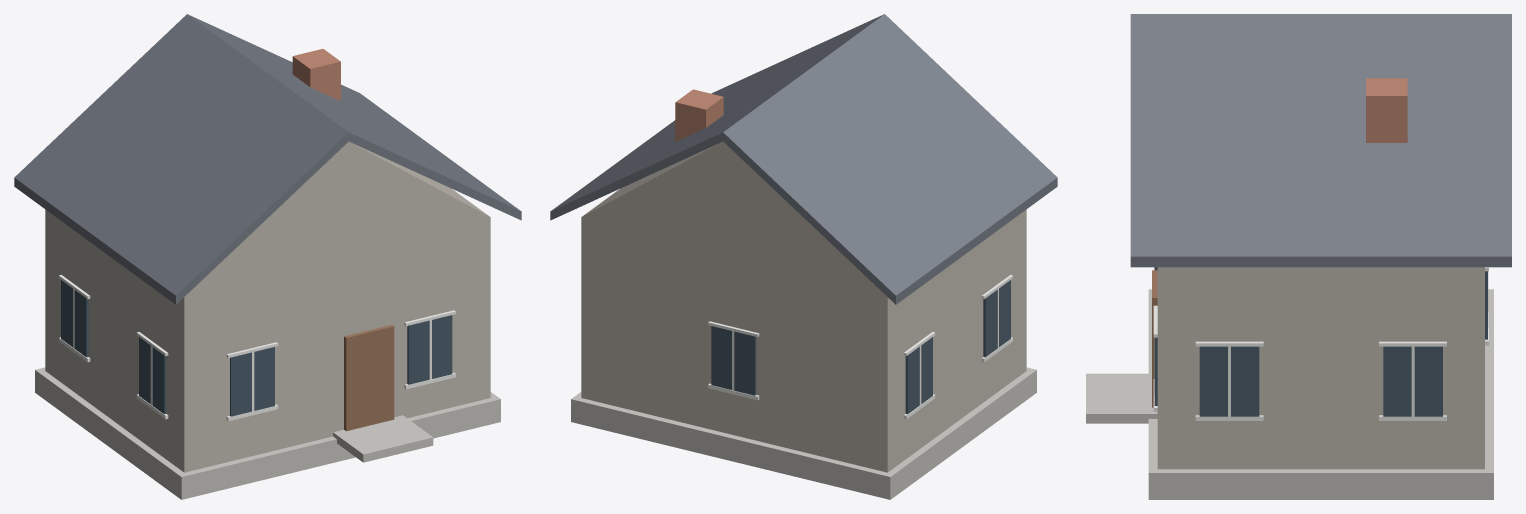
File: house_c.glb
3 renders of one model, left to right at view 1: azimuth 30°, elevation 25°; view 2: azimuth 150°, elevation 25°; view 3: azimuth 270°, elevation 25°, orthographic. The views are drawn at different scales.
Parts seen in each view (by area): view 1: house_c; view 2: house_c; view 3: house_c.
Part boxes in pixels (x1=…): house_c: x1=14, y1=14, x2=521, y2=499; house_c: x1=550, y1=14, x2=1057, y2=499; house_c: x1=1086, y1=14, x2=1511, y2=499.
Size of the model in its own units: 7.9 by 7.3 by 7.15.
